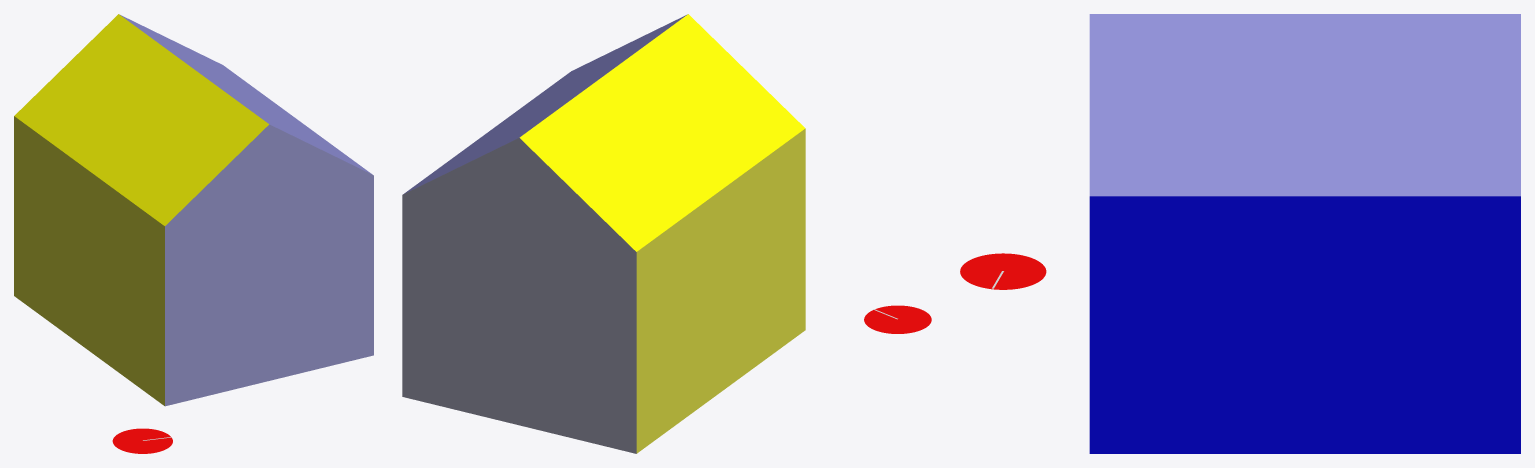
Rendered from result.glb.
The picture shows the model from 3 angles, left to right: view 1: azimuth 30°, elevation 25°; view 2: azimuth 150°, elevation 25°; view 3: azimuth 270°, elevation 25°; orthographic projection. The views are drawn at different scales.
Visible parts, largest first — view 1: f08f4410-60d8-4c98-989f-04fa46b0e7b5__undefined, 2a3f15e3-4343-410d-9f0c-0c677c505077__undefined, d1141ced-fe1a-4999-b0cb-beb027d11297__undefined, e017eb78-22c3-44e3-99f1-f893ab1ed525__undefined, 4611ea08-558f-44a4-8e63-de286d71b961__Circle; view 2: 38de25a6-fa2a-40dc-80ff-cd2b1e8e48e4__undefined, 2a3f15e3-4343-410d-9f0c-0c677c505077__undefined, d1141ced-fe1a-4999-b0cb-beb027d11297__undefined, e017eb78-22c3-44e3-99f1-f893ab1ed525__undefined, 4611ea08-558f-44a4-8e63-de286d71b961__Circle; view 3: f5ab903a-23e6-4fc1-81e8-b5a856642a8a__undefined, e017eb78-22c3-44e3-99f1-f893ab1ed525__undefined, 4611ea08-558f-44a4-8e63-de286d71b961__Circle.
Part boxes in pixels (x1,y1,x2,y2): f08f4410-60d8-4c98-989f-04fa46b0e7b5__undefined: (165,124,373,406); 2a3f15e3-4343-410d-9f0c-0c677c505077__undefined: (14,116,164,405); d1141ced-fe1a-4999-b0cb-beb027d11297__undefined: (14,14,268,225); e017eb78-22c3-44e3-99f1-f893ab1ed525__undefined: (119,14,372,174); 4611ea08-558f-44a4-8e63-de286d71b961__Circle: (112,428,172,453); 38de25a6-fa2a-40dc-80ff-cd2b1e8e48e4__undefined: (402,138,636,453); 2a3f15e3-4343-410d-9f0c-0c677c505077__undefined: (636,128,805,453); d1141ced-fe1a-4999-b0cb-beb027d11297__undefined: (519,14,805,251); e017eb78-22c3-44e3-99f1-f893ab1ed525__undefined: (403,14,687,194); 4611ea08-558f-44a4-8e63-de286d71b961__Circle: (864,305,931,333); f5ab903a-23e6-4fc1-81e8-b5a856642a8a__undefined: (1089,196,1520,453); e017eb78-22c3-44e3-99f1-f893ab1ed525__undefined: (1089,14,1520,196); 4611ea08-558f-44a4-8e63-de286d71b961__Circle: (960,253,1046,289).
Size of the model in its own units: 550 by 469 by 650.
